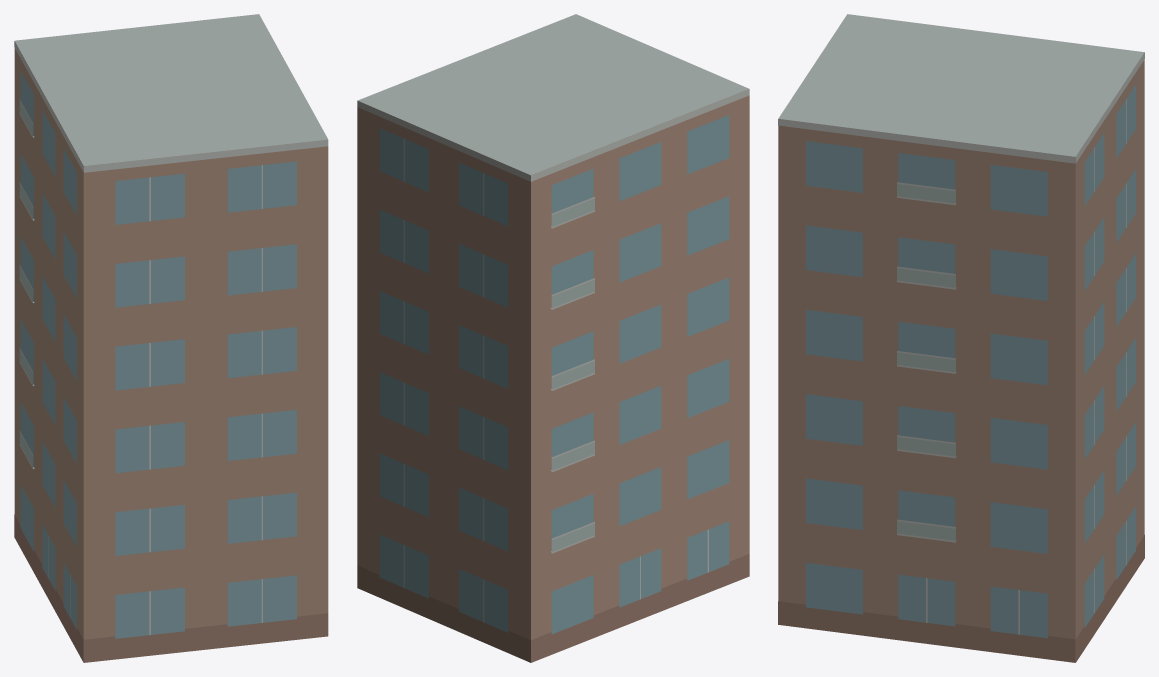
File: survey-upis-32528715.glb
3 renders of one model, left to right at view 1: azimuth 30°, elevation 25°; view 2: azimuth 150°, elevation 25°; view 3: azimuth 270°, elevation 25°, orthographic. The views are drawn at different scales.
Visible parts, largest first — view 1: survey-upis-32528715.tmp; view 2: survey-upis-32528715.tmp; view 3: survey-upis-32528715.tmp.
Part boxes in pixels (left/top/right/bottom): survey-upis-32528715.tmp: left=14, top=14, right=328, bottom=662; survey-upis-32528715.tmp: left=357, top=14, right=749, bottom=662; survey-upis-32528715.tmp: left=778, top=14, right=1144, bottom=662.
Size of the model in its own units: 11.09 by 18.3 by 12.03.
